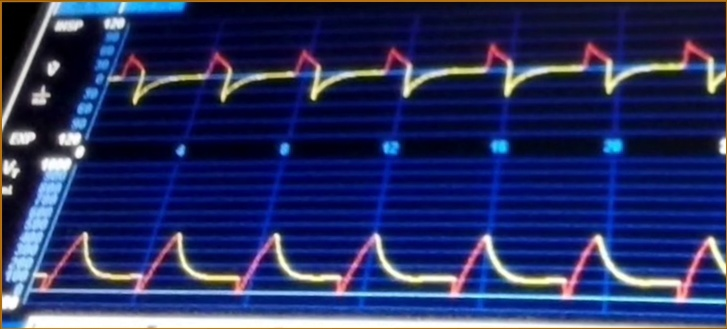Flow: (115, 38, 726, 126)
Leakage Volume: (54, 203, 725, 312)
